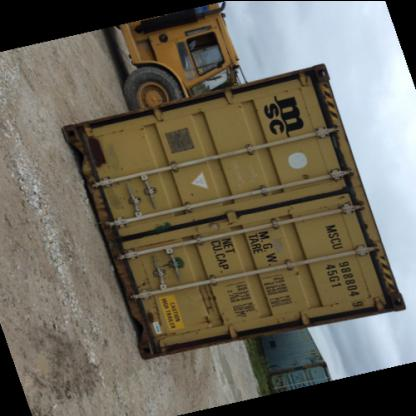Damage: (78, 127, 122, 173), (200, 304, 238, 330), (147, 295, 170, 329), (290, 166, 326, 182), (286, 262, 310, 284)
